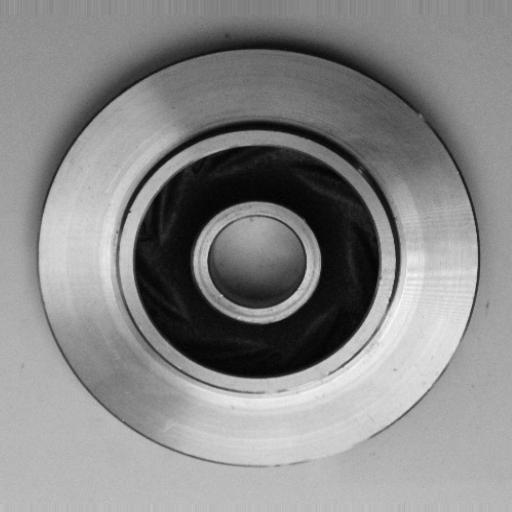unpolished_casting: (33, 42, 482, 471)
